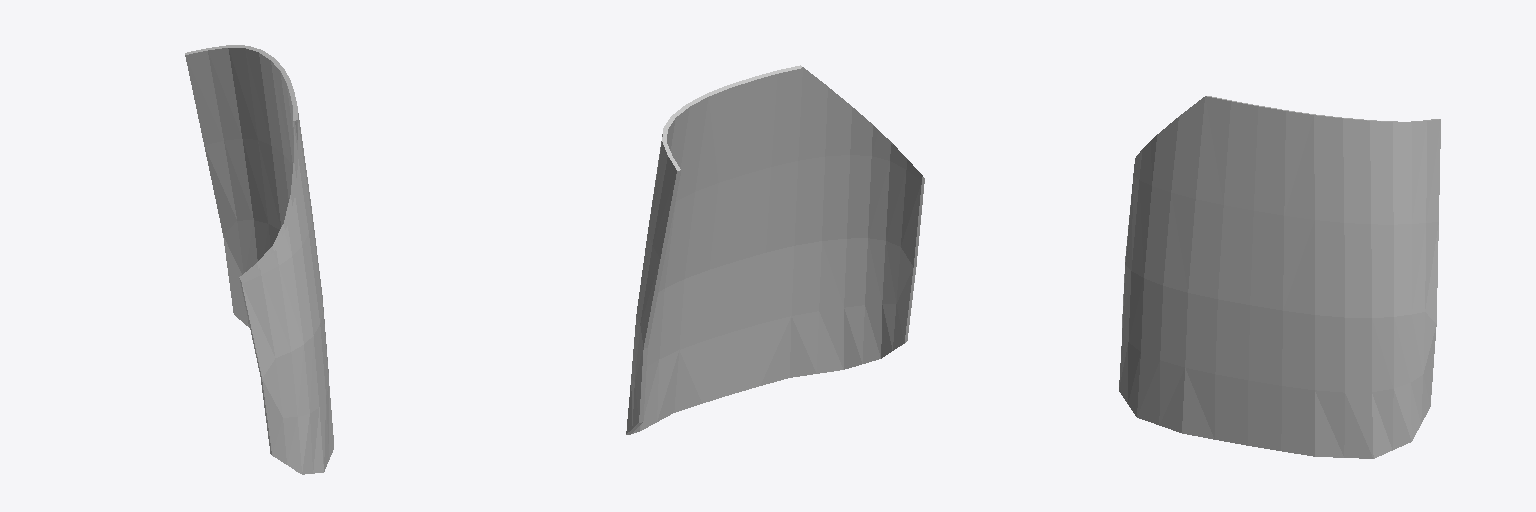
File: damaged_sidebottom.obj
3 renders of one model, left to right at view 1: azimuth 30°, elevation 25°; view 2: azimuth 150°, elevation 25°; view 3: azimuth 270°, elevation 25°, orthographic.
Parts seen in each view (by area): view 1: Cube.004_Cube.001_cell_Cube.004_Cube.001_cell.002; view 2: Cube.004_Cube.001_cell_Cube.004_Cube.001_cell.002; view 3: Cube.004_Cube.001_cell_Cube.004_Cube.001_cell.002.
Part boxes in pixels (left/top/right/bottom): Cube.004_Cube.001_cell_Cube.004_Cube.001_cell.002: left=185, top=45, right=333, bottom=474; Cube.004_Cube.001_cell_Cube.004_Cube.001_cell.002: left=626, top=65, right=924, bottom=434; Cube.004_Cube.001_cell_Cube.004_Cube.001_cell.002: left=1119, top=96, right=1440, bottom=458.
Size of the model in its own units: 0.9457 by 1.72 by 1.54.